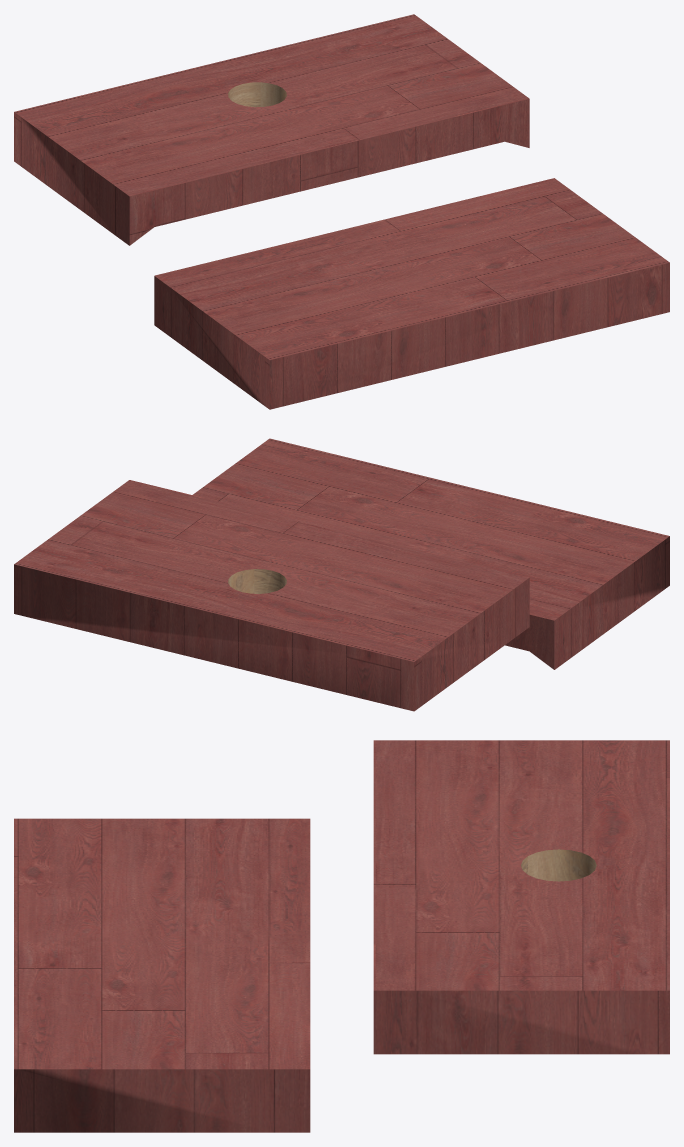
The model's file is Plate 5.fbx.
The picture shows the model from 3 angles, top to bottom: view 1: azimuth 30°, elevation 25°; view 2: azimuth 150°, elevation 25°; view 3: azimuth 270°, elevation 25°; orthographic projection. The views are drawn at different scales.
Visible parts, largest first — view 1: polySurface1; view 2: polySurface1; view 3: polySurface1.
Boxes of the visible parts, box(x1,y1,x2,y2) form: polySurface1: box(14, 14, 669, 409); polySurface1: box(14, 438, 669, 711); polySurface1: box(14, 740, 669, 1132).
Bounding box in the file's own units: 34.58 × 9.14 × 38.26.
Materials: 1 (1 with a texture image).
